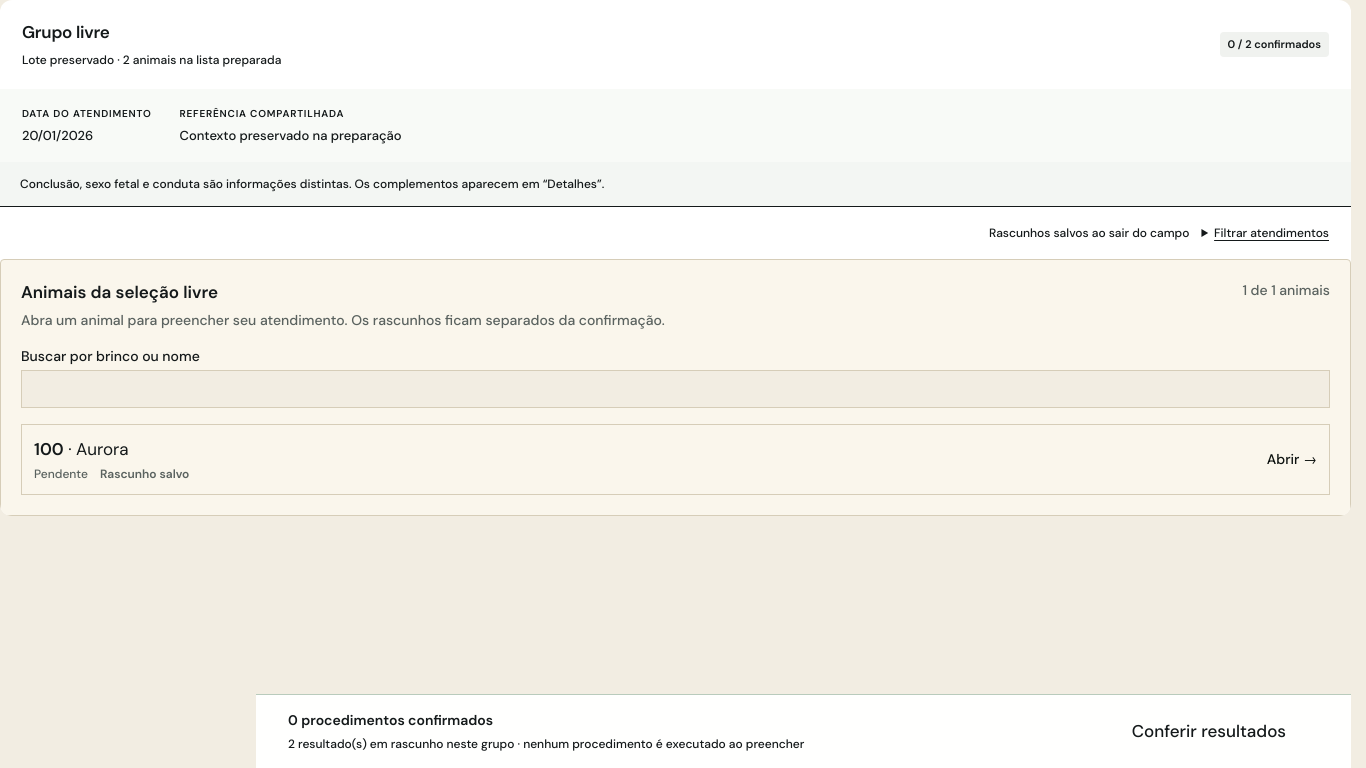
Test case: seleção livre individual — contraprovas independentes › permite remover na lista o motivo retomado pela URL sem apagar rascunhos
Expected: the button with aria-label "Abrir atendimento de 100 · Aurora" is shown, [21,424,1330,495]
Click the heading "Filtrar atendimentos" at (1265, 233), box [1201,224,1329,242]
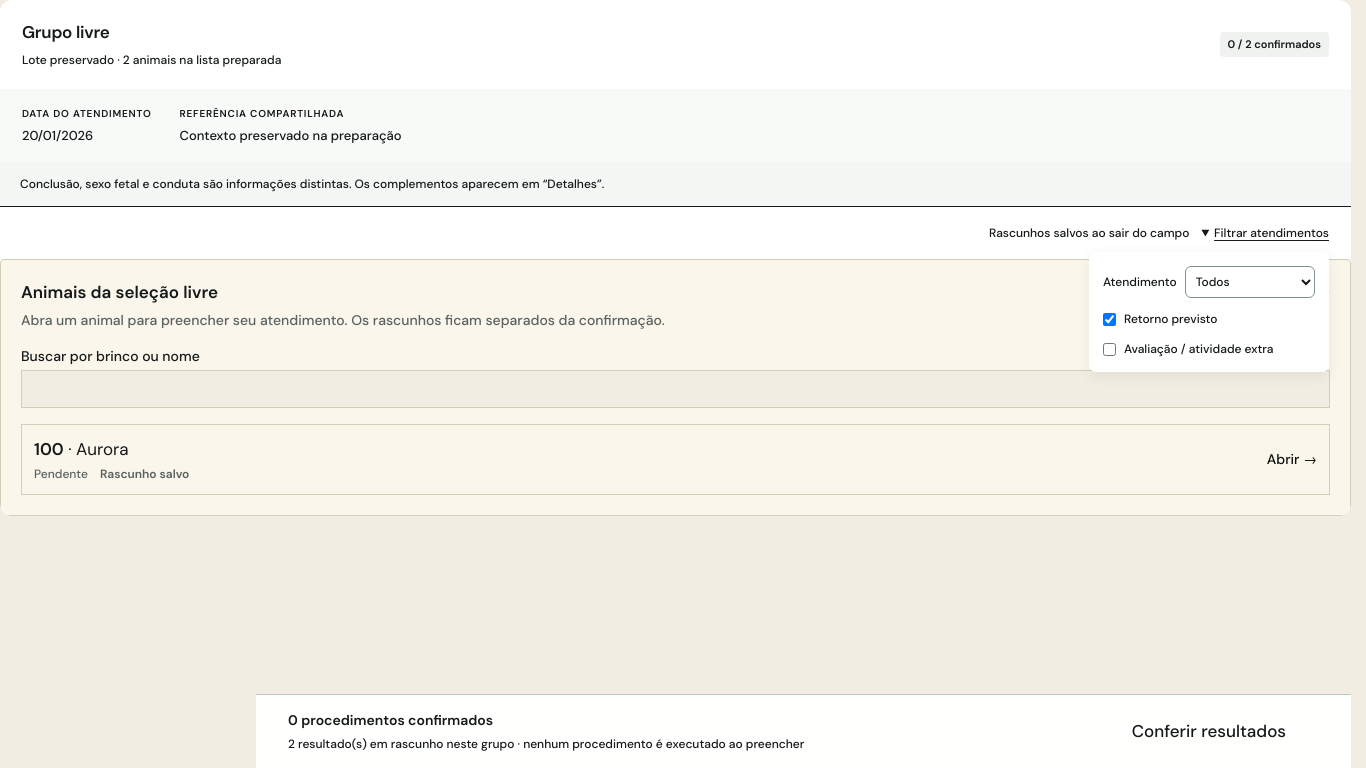
Expected: the checkbox labelled "Retorno previsto" is checked
Click the checkbox labelled "Retorno previsto" at (1110, 319), box [1103,312,1116,326]
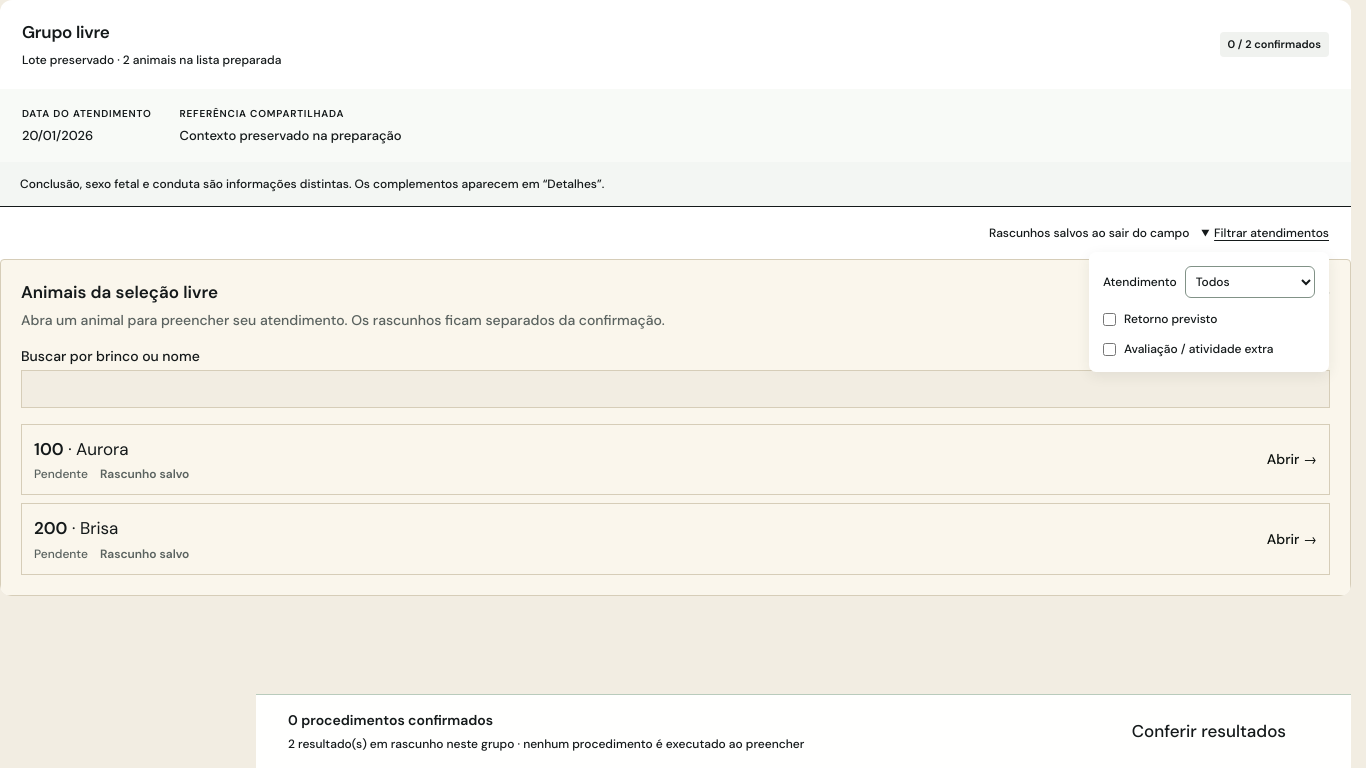
Expected: the button with aria-label "Abrir atendimento de 200 · Brisa" is shown, [21,503,1330,574]
Click the button with aria-label "Abrir atendimento de 100 · Aurora" at (102, 448), box [21,424,1330,495]
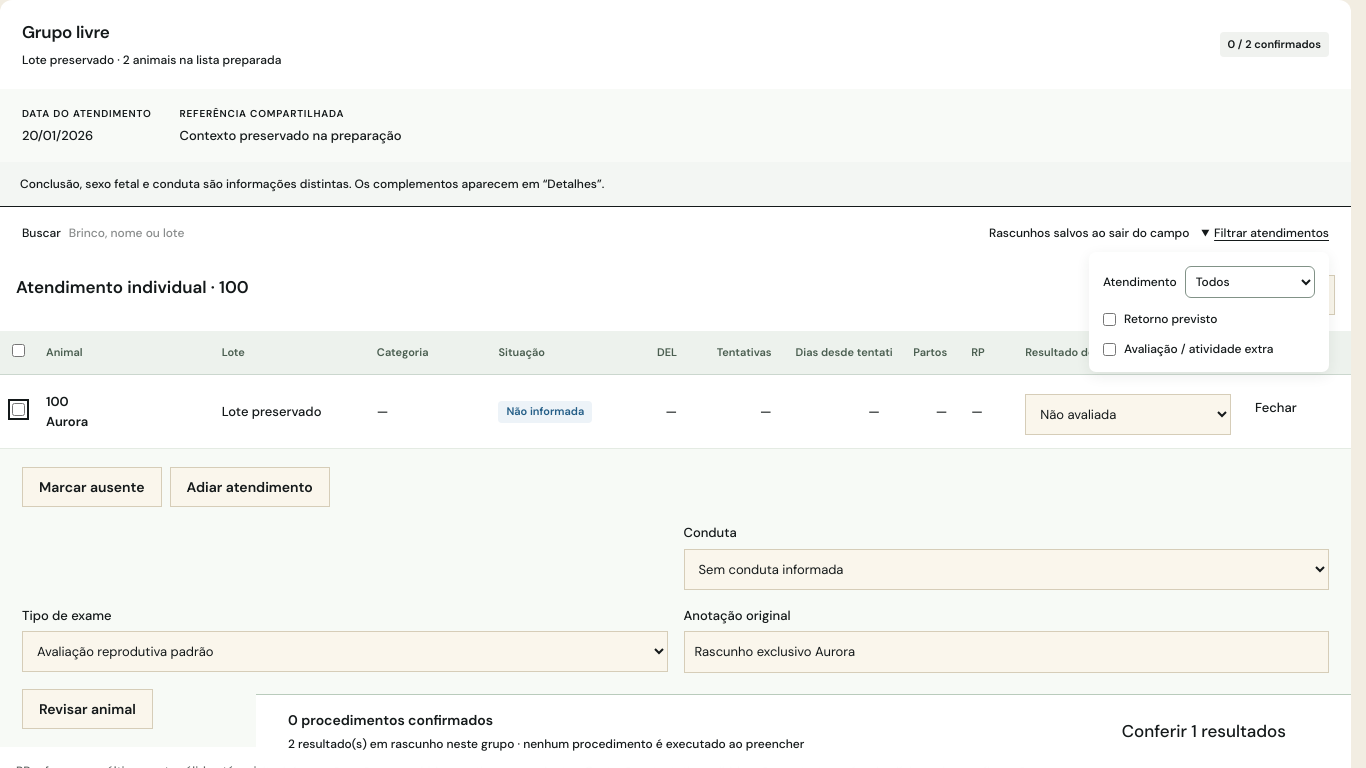
Expected: the field named "Anotação original · 100" holds "Rascunho exclusivo Aurora", [684,631,1329,673]
